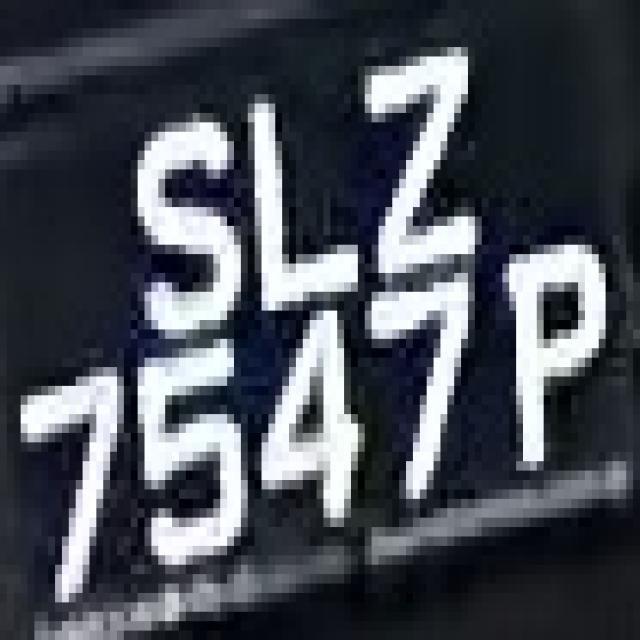4: (248, 292, 385, 546)
5: (124, 339, 248, 583)
7: (337, 226, 482, 536), (7, 348, 117, 640)
L: (234, 66, 365, 301)
P: (496, 217, 620, 518)
S: (117, 85, 234, 348)
Z: (344, 28, 496, 292)
